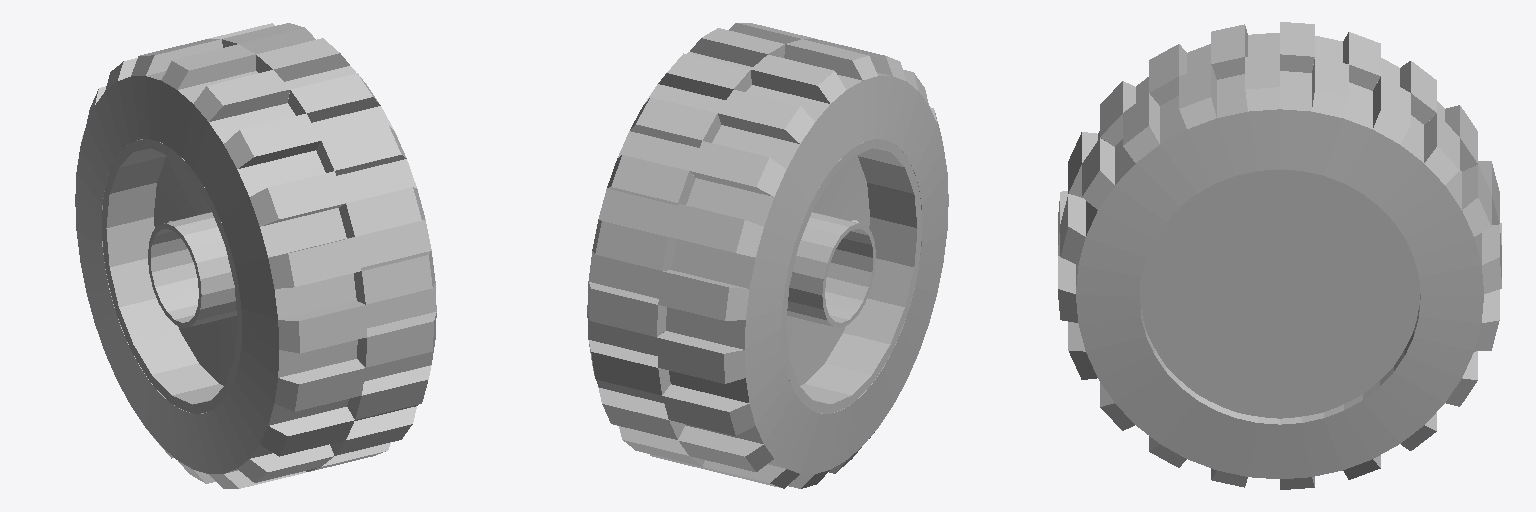
Rendered from ruedaTrasIzq.obj.
The picture shows the model from 3 angles: view 1: azimuth 30°, elevation 25°; view 2: azimuth 150°, elevation 25°; view 3: azimuth 270°, elevation 25°; orthographic projection.
Parts seen in each view (by area): view 1: polySurface108; view 2: polySurface108; view 3: polySurface108.
Part boxes in pixels (left/top/right/bottom): polySurface108: left=75, top=23, right=436, bottom=488; polySurface108: left=587, top=23, right=948, bottom=488; polySurface108: left=1058, top=22, right=1501, bottom=489.
Size of the model in its own units: 1.25 by 2.85 by 2.85.